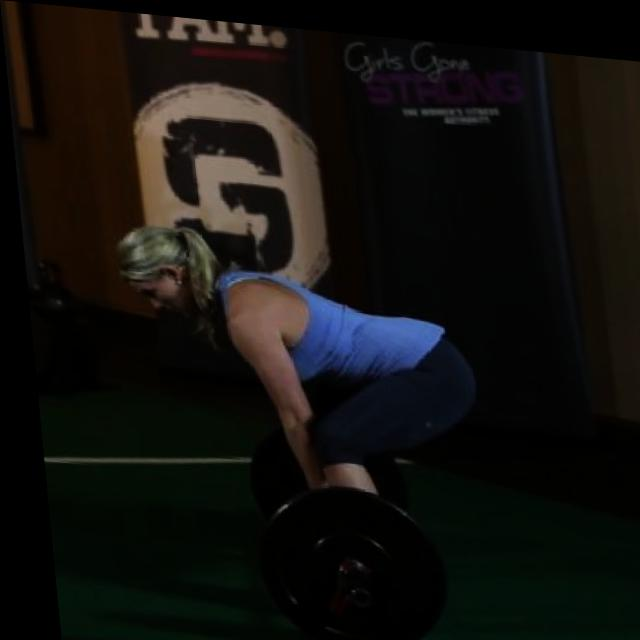barbell: (238, 467, 448, 640)
